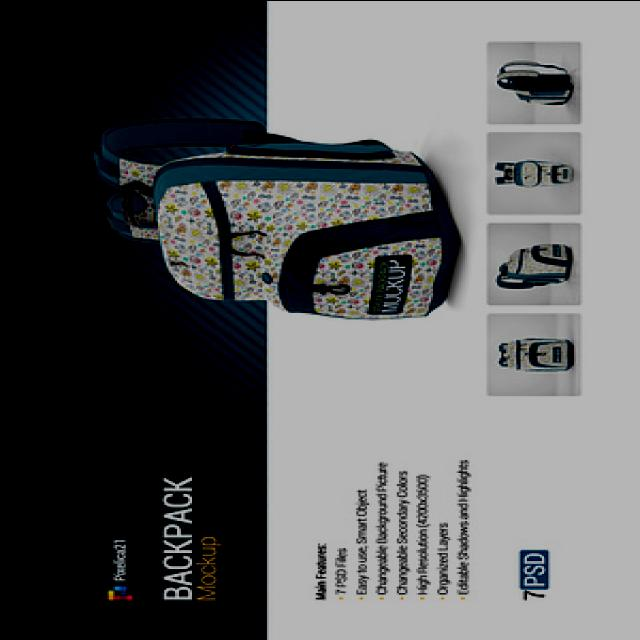backpack: (93, 119, 460, 321)
